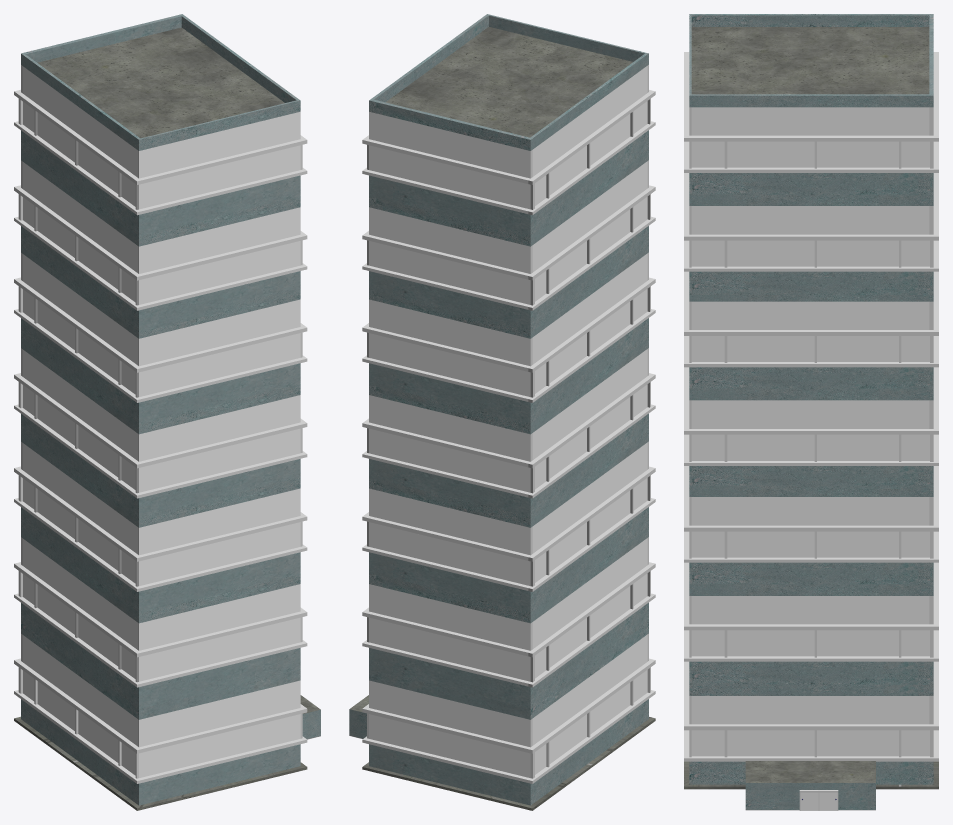
The model's file is building12.fbx.
3 views of the same model, side by side, from view 1: azimuth 30°, elevation 25°; view 2: azimuth 150°, elevation 25°; view 3: azimuth 270°, elevation 25° (orthographic). The views are drawn at different scales.
Visible parts, largest first — view 1: pCube7 (×3), pCube8 (×3), pCube1, pCube2; view 2: pCube7 (×3), pCube8 (×3), pCube1, pCube2; view 3: pCube7 (×3), pCube8 (×3), pCube1, pCube2.
Part boxes in pixels (x1=…): pCube7 (×3): x1=14, y1=14, x2=307, y2=613; pCube8 (×3): x1=14, y1=149, x2=307, y2=708; pCube1: x1=14, y1=623, x2=307, y2=810; pCube2: x1=300, y1=695, x2=320, y2=739; pCube7 (×3): x1=362, y1=14, x2=655, y2=612; pCube8 (×3): x1=362, y1=149, x2=655, y2=708; pCube1: x1=362, y1=622, x2=655, y2=810; pCube2: x1=349, y1=695, x2=368, y2=738; pCube7 (×3): x1=684, y1=14, x2=938, y2=584; pCube8 (×3): x1=684, y1=173, x2=938, y2=684; pCube1: x1=684, y1=661, x2=938, y2=789; pCube2: x1=745, y1=761, x2=875, y2=810.
Size of the model in its own units: 10.06 by 29.71 by 9.92.
